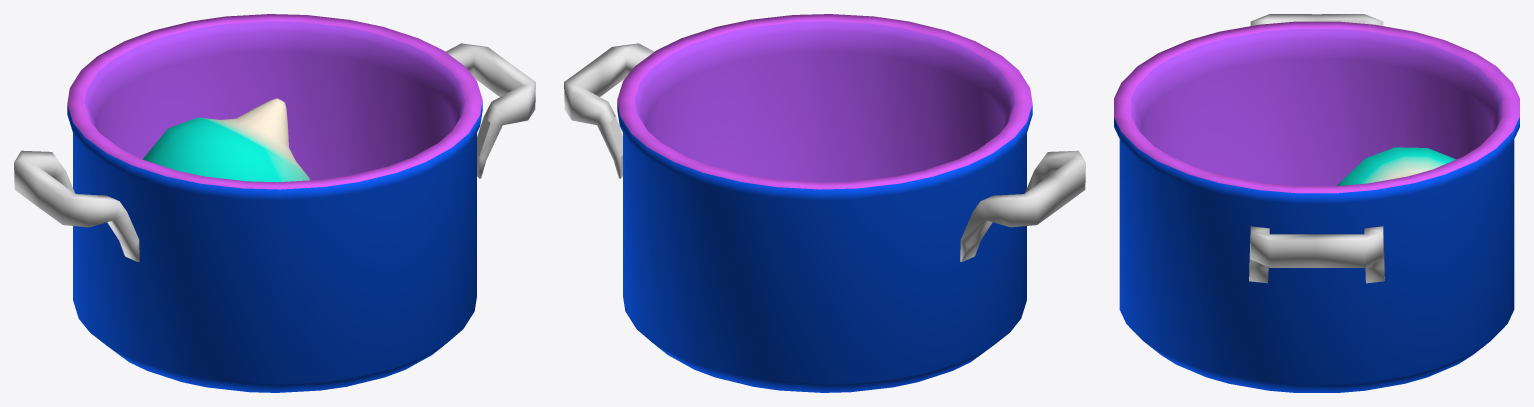
Rendered from FrenchOnionSoupPotCooked.fbx.
3 renders of one model, left to right at view 1: azimuth 30°, elevation 25°; view 2: azimuth 150°, elevation 25°; view 3: azimuth 270°, elevation 25°, orthographic.
Parts seen in each view (by area): view 1: Cylinder.001, Cylinder.002, Onion.009; view 2: Cylinder.001, Cylinder.002; view 3: Cylinder.001, Cylinder.002, Onion.009.
Part boxes in pixels (x1,y1,x2,y2): Cylinder.001: [67, 14, 482, 392]; Cylinder.002: [14, 43, 535, 261]; Onion.009: [143, 98, 309, 182]; Cylinder.001: [617, 14, 1032, 392]; Cylinder.002: [564, 43, 1085, 261]; Cylinder.001: [1114, 21, 1519, 392]; Cylinder.002: [1249, 14, 1384, 283]; Onion.009: [1337, 147, 1455, 185].
Bounding box in the file's own units: 83.38 × 37.11 × 62.94.
